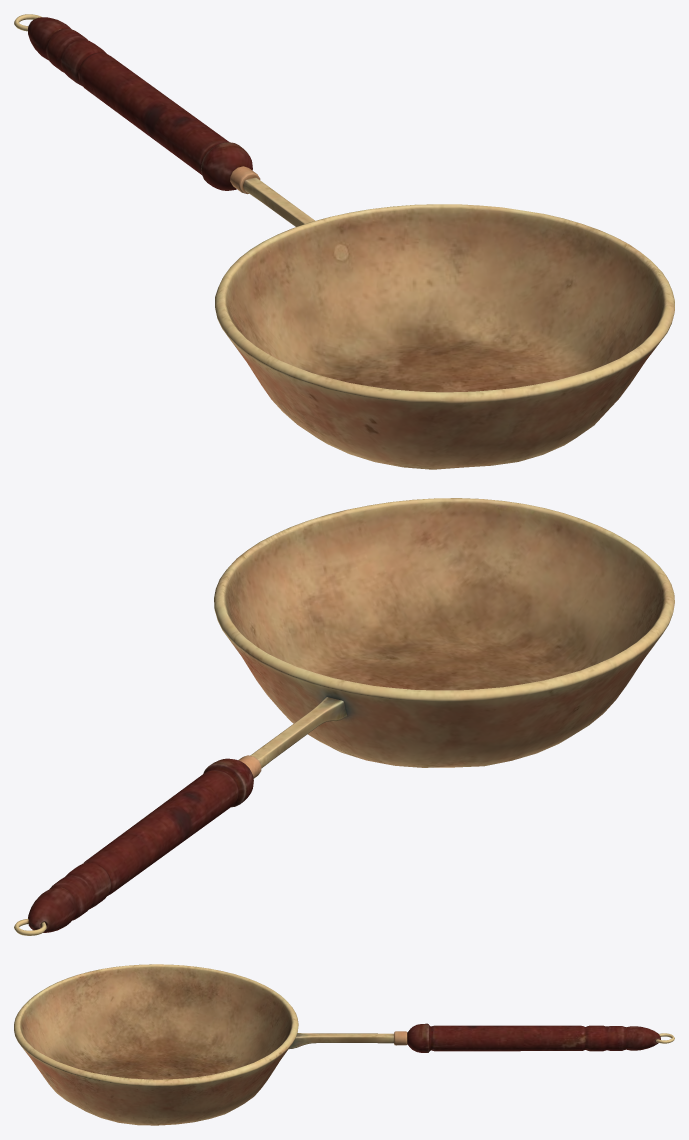
The model's file is brass_pan_01.glb.
The picture shows the model from 3 angles, top to bottom: view 1: azimuth 30°, elevation 25°; view 2: azimuth 150°, elevation 25°; view 3: azimuth 270°, elevation 25°; orthographic projection. The views are drawn at different scales.
Size of the model in its own units: 0.1913 by 0.0525 by 0.4497.
Materials: 1 (1 with a texture image).
